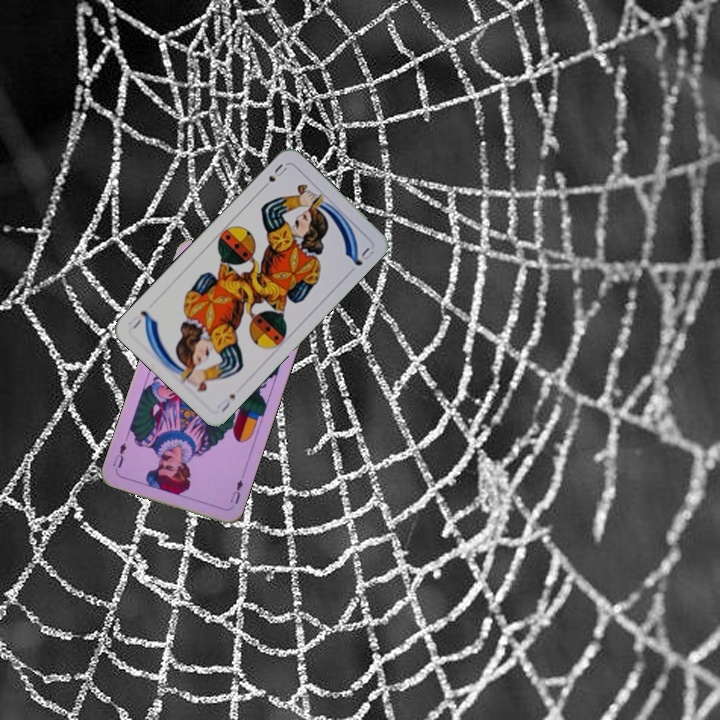EU: (226, 471, 246, 507)
SU: (257, 160, 290, 193), (213, 390, 238, 415)
